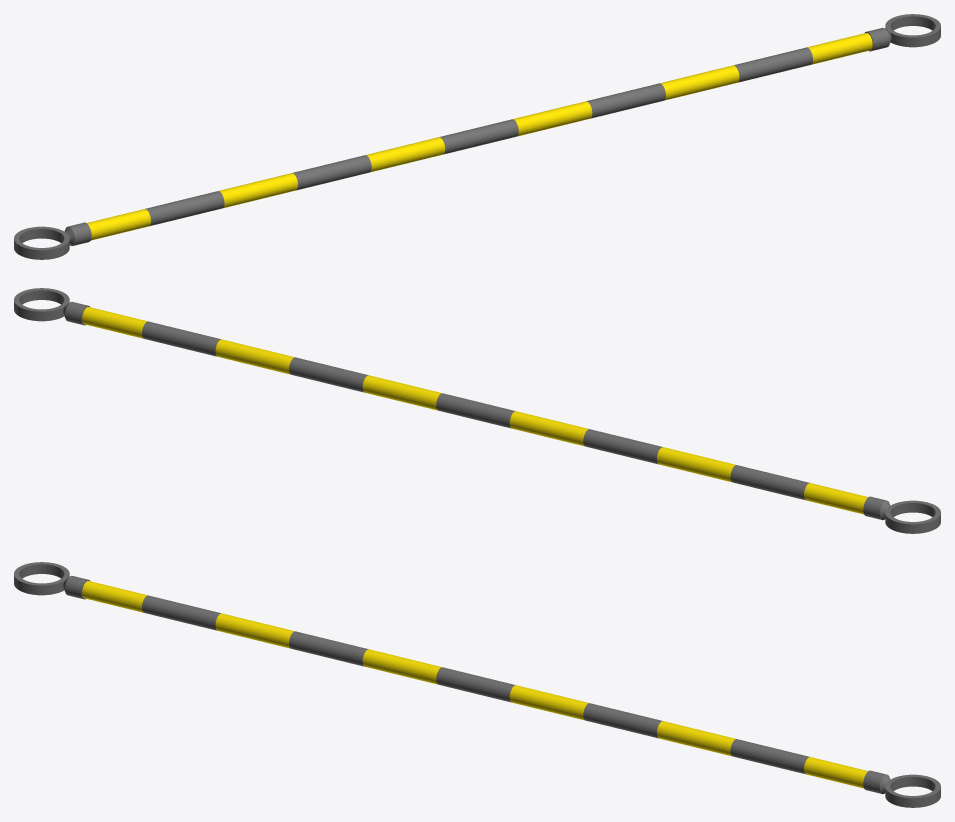
The model's file is 696_コーンバー2m.glb.
3 renders of one model, top to bottom at view 1: azimuth 30°, elevation 25°; view 2: azimuth 150°, elevation 25°; view 3: azimuth 330°, elevation 25°, orthographic.
Visible parts, largest first — view 1: Body; view 2: Body; view 3: Body.
Part boxes in pixels (<box>): Body: <box>14,14,940,259</box>; Body: <box>14,288,940,533</box>; Body: <box>14,562,940,807</box>.
Bounding box in the file's own units: 2 × 0.038 × 0.105.
